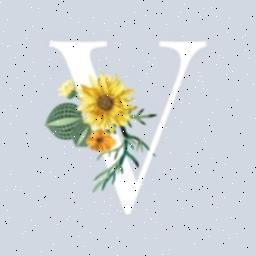v: (42, 29, 218, 221)
